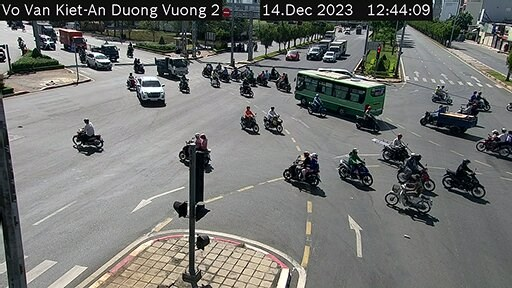bus: (289, 60, 384, 129)
car: (129, 74, 177, 106), (76, 52, 112, 72), (302, 45, 318, 60), (284, 47, 300, 61), (319, 51, 336, 60)
motorbike: (384, 177, 437, 220), (286, 146, 325, 191), (340, 145, 379, 188), (450, 156, 484, 203), (400, 153, 438, 191), (66, 114, 102, 154), (172, 132, 221, 160), (481, 123, 512, 163), (233, 101, 261, 135), (385, 133, 408, 165), (172, 76, 204, 99), (262, 103, 279, 137), (360, 103, 379, 133), (470, 89, 491, 116), (308, 91, 328, 116), (431, 80, 449, 105), (275, 69, 291, 94), (236, 78, 251, 100), (200, 62, 220, 78), (121, 75, 139, 90)
truck: (152, 52, 202, 83), (60, 27, 86, 52)
